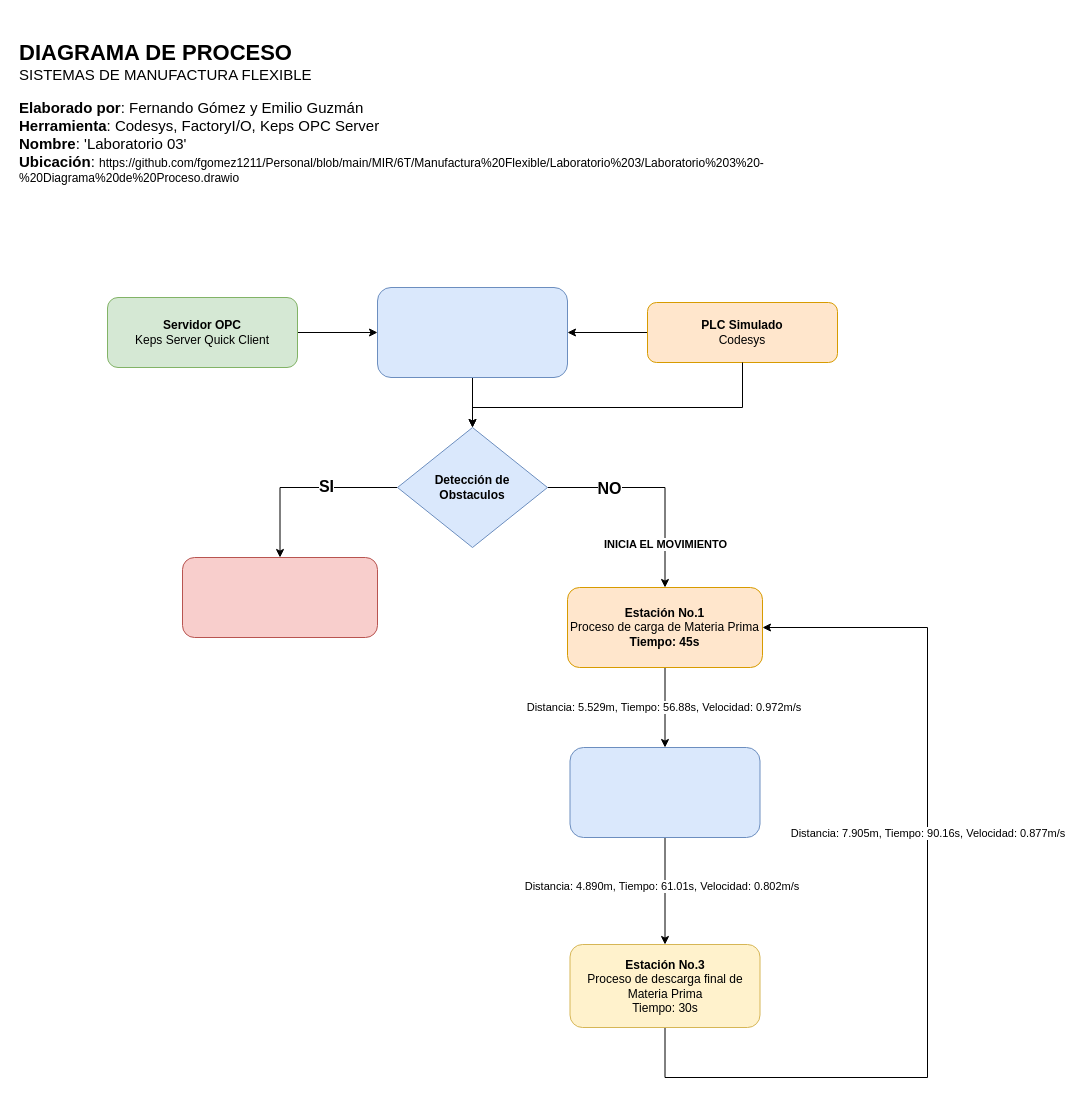
The diagram is 1085 pixels wide and 1103 high, and some of its shapes have lost their labels. The shapes that lost their labels are listed below. From the top down, each one's box as (x1, y1, x2, y2) in pixels, then its label:
(376, 286, 568, 378): Ejecución de la Simulación Factory I/O
(182, 556, 378, 638): Se detiene el AGV hasta que se remueva el objeto
(569, 746, 760, 838): Estación No.2 Proceso de descarga de Materia Prima Tiempo: 40s
